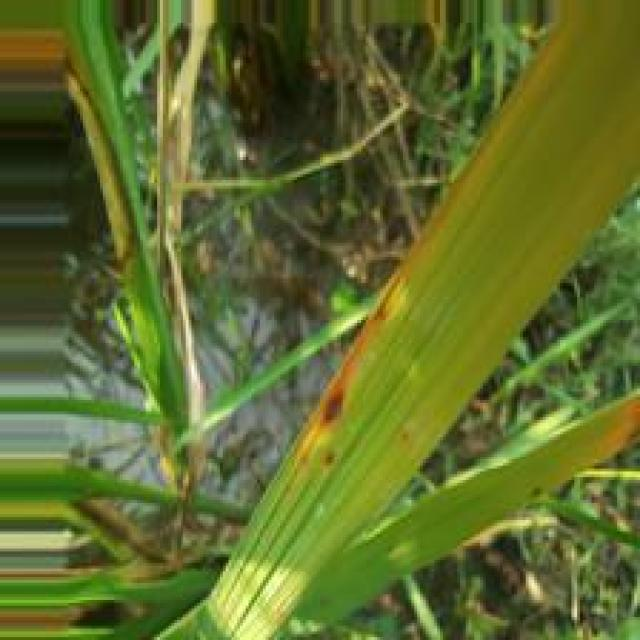Leaf_Blast: (288, 261, 403, 460)
